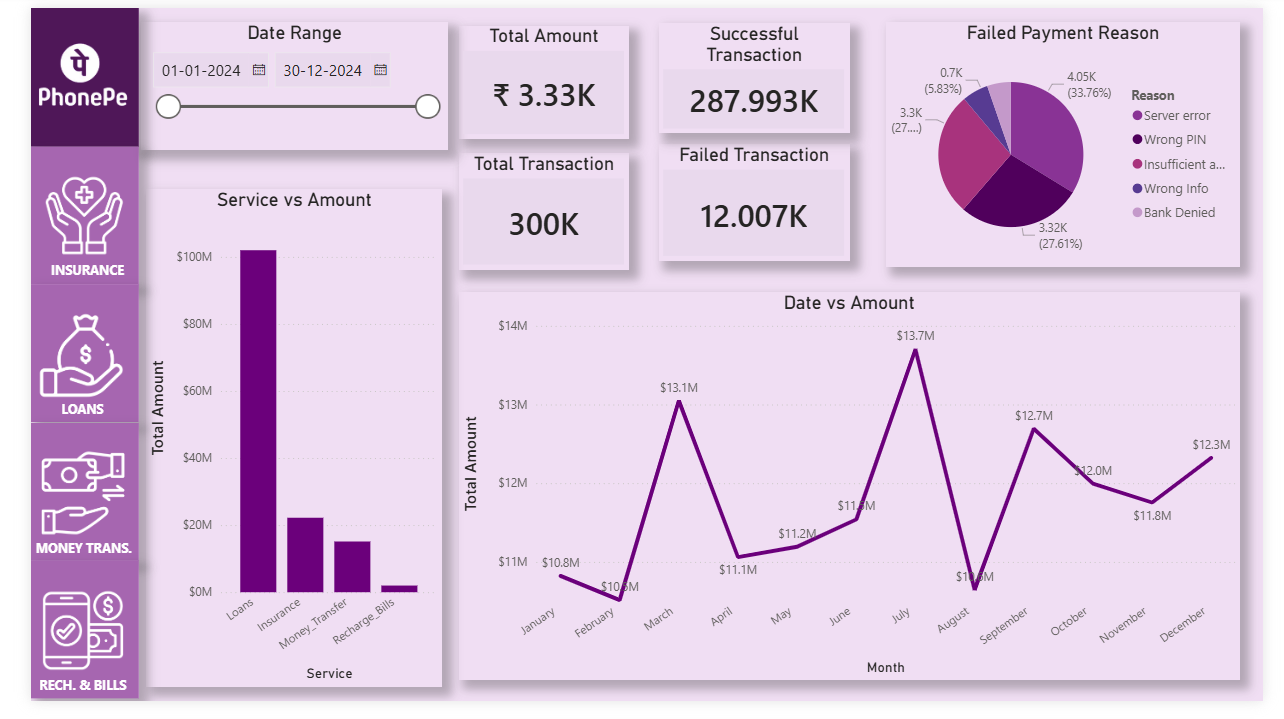

The dashboard page shown, as its layout file describes it:
{"tool":"powerbi","page":{"name":"Insurance","canvas":[1280,720],"ordinal":1},"visuals":[{"type":"shape","box":[0,0,111.9,144],"z":0,"group":"g1"},{"type":"slicer","title":"Date Range","fields":{"Values":["Insurance.Date"]},"box":[122.6,15.5,314.3,133.3],"z":0},{"type":"shape","box":[0,144,112.2,143.6],"z":0,"group":"g4"},{"type":"shape","box":[0,591.7,113.1,128.6],"z":0,"group":"g3"},{"type":"cardVisual","title":"Total   Amount","fields":{"Data":["Sum(Insurance.Premium)"]},"box":[122.6,160.7,314.3,117.9],"z":1000},{"type":"shape","box":[0,285.7,111.9,142.9],"z":1000,"group":"g5"},{"type":"image","box":[0,621.2,111.9,72.7],"z":1000,"group":"g3"},{"type":"pieChart","title":"Failed Payment Reason","fields":{"Category":["Insurance.Reason"],"Y":["CountNonNull(Insurance.Reason)"]},"box":[888.1,14.3,367.9,254.8],"z":2000},{"type":"shape","box":[1.2,429.7,111.9,161.9],"z":2000,"group":"g2"},{"type":"textbox","box":[9.5,693.9,121.4,26.3],"z":2000,"group":"g3"},{"type":"areaChart","title":"Date vs Amount","fields":{"Category":["Insurance.Date.Variation.Date Hierarchy.Month"],"Y":["Sum(Insurance.Premium)"]},"box":[850,285.7,416.7,414.3],"z":3000},{"type":"group","id":"g1","title":"Group 1","box":[0,0,111.9,144],"z":4000},{"type":"image","box":[5.6,157,97.6,127.4],"z":4000,"group":"g4"},{"type":"image","box":[7.2,8.4,98.9,127.9],"z":5000,"group":"g1"},{"type":"group","id":"g2","title":"Group 4","box":[0,144,122.6,447.6],"z":5000},{"type":"image","box":[10.7,293.8,97.6,126.2],"z":5000,"group":"g5"},{"type":"actionButton","box":[1.2,144,113.1,145.2],"z":6000},{"type":"image","box":[13.1,438,97.6,127.4],"z":6000,"group":"g2"},{"type":"actionButton","box":[0,141.7,113.1,145.2],"z":7000},{"type":"textbox","box":[5,259.4,107,28],"z":8000,"group":"g4"},{"type":"actionButton","box":[2.4,434.5,113.1,141.7],"z":8000},{"type":"textbox","box":[2.4,402,106,32.1],"z":9000,"group":"g5"},{"type":"actionButton","box":[0,591.7,113.1,128.6],"z":9000},{"type":"actionButton","box":[0,0,113.1,144],"z":10000},{"type":"textbox","box":[0,551.1,122.6,27.4],"z":10000,"group":"g2"},{"type":"pieChart","title":"Payment Status","fields":{"Category":["Insurance.Payment_Status"],"Y":["CountNonNull(Insurance.Payment_Status)"]},"box":[482.1,21.4,367.9,254.8],"z":11000},{"type":"group","id":"g3","title":"Group 5","box":[0,591.7,131,128.6],"z":12000},{"type":"clusteredBarChart","title":"Date vs Amount","fields":{"Category":["Insurance.Insurance_Type"],"Y":["Sum(Insurance.Premium)"]},"box":[466.7,296.4,372.6,403.6],"z":13000},{"type":"image","box":[373.8,329.8,103.6,73.8],"z":14000},{"type":"image","box":[356,403.6,136.9,88.1],"z":15000},{"type":"image","box":[361.9,497.6,126.2,63.1],"z":16000},{"type":"image","box":[336.9,576.2,159.5,64.3],"z":17000},{"type":"textbox","box":[102.4,296.4,314.3,51.2],"z":18000},{"type":"cardVisual","title":"Total   Amount","fields":{"Data":["Sum(Insurance.Premium)"]},"box":[148.8,322.6,221.4,88.1],"z":19000},{"type":"cardVisual","title":"Total   Amount","fields":{"Data":["Sum(Insurance.Premium)"]},"box":[148.8,575,221.4,88.1],"z":20000},{"type":"group","id":"g4","title":"Group 2","box":[0,144,111.9,144],"z":20001,"group":"g5"},{"type":"group","id":"g5","title":"Group 3","box":[0,144,111.9,290.1],"z":20002,"group":"g2"},{"type":"cardVisual","title":"Total   Amount","fields":{"Data":["Sum(Insurance.Premium)"]},"box":[152.4,484.5,221.4,88.1],"z":21000},{"type":"cardVisual","title":"Total   Amount","fields":{"Data":["Sum(Insurance.Premium)"]},"box":[148.8,396.4,221.4,88.1],"z":22000},{"type":"textbox","box":[483.3,278.6,314.3,51.2],"z":23000}]}

Visuals, with their boxes in screenshot pixels (x1, y1, x2, y2), scaled from the page's 1280x720 canvas onto the 1284x719 screenshot:
shape: 0,0,112,144
"Date Range" slicer: 123,15,438,149
shape: 0,144,113,287
shape: 0,591,113,718
"Total   Amount" cardVisual: 123,160,438,278
shape: 0,285,112,428
image: 0,620,112,693
"Failed Payment Reason" pieChart: 891,14,1260,269
shape: 1,429,113,591
textbox: 10,693,131,718
"Date vs Amount" areaChart: 853,285,1271,699
"Group 1" group: 0,0,112,144
image: 6,157,104,284
image: 7,8,106,136
"Group 4" group: 0,144,123,591
image: 11,293,109,419
actionButton: 1,144,115,289
image: 13,437,111,565
actionButton: 0,142,113,287
textbox: 5,259,112,287
actionButton: 2,434,116,575
textbox: 2,401,109,433
actionButton: 0,591,113,718
actionButton: 0,0,113,144
textbox: 0,550,123,578
"Payment Status" pieChart: 484,21,853,276
"Group 5" group: 0,591,131,718
"Date vs Amount" clusteredBarChart: 468,296,842,699
image: 375,329,479,403
image: 357,403,494,491
image: 363,497,490,560
image: 338,575,498,640
textbox: 103,296,418,347
"Total   Amount" cardVisual: 149,322,371,410
"Total   Amount" cardVisual: 149,574,371,662
"Group 2" group: 0,144,112,288
"Group 3" group: 0,144,112,433
"Total   Amount" cardVisual: 153,484,375,572
"Total   Amount" cardVisual: 149,396,371,484
textbox: 485,278,800,329
